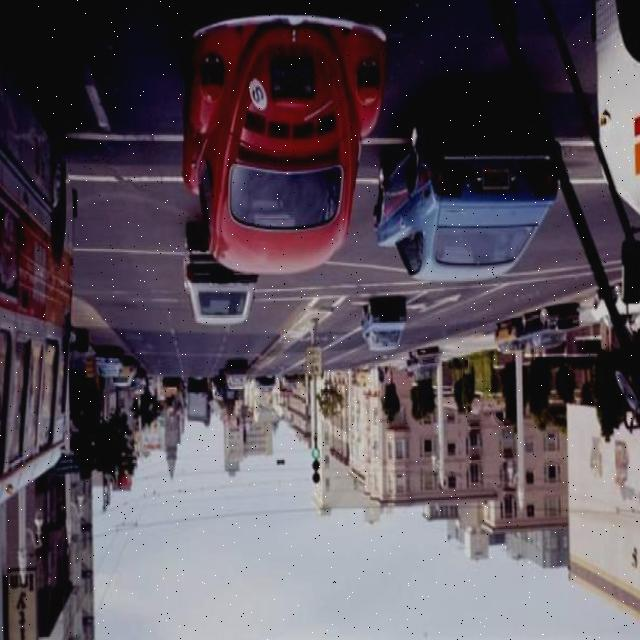car: (184, 0, 375, 272), (371, 118, 559, 278), (180, 226, 253, 326), (526, 310, 580, 356), (364, 297, 404, 355), (223, 358, 250, 390), (97, 348, 121, 382)
